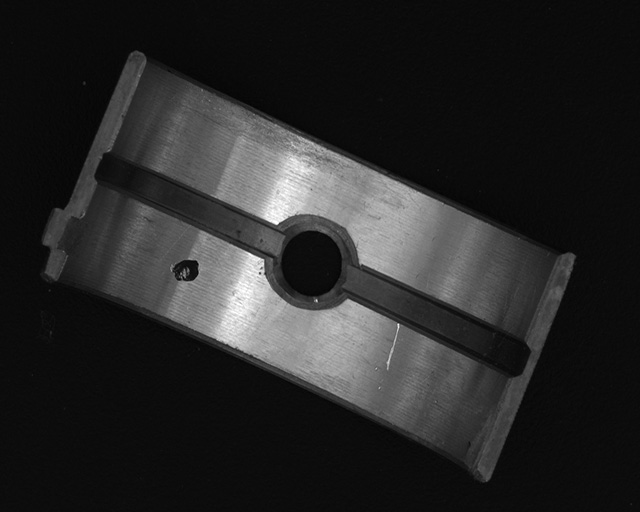blot: (169, 259, 200, 282)
gap: (346, 265, 525, 376), (97, 155, 282, 257)
hole: (270, 216, 352, 309)
nick: (385, 322, 400, 371)
scratch: (199, 89, 364, 172)
